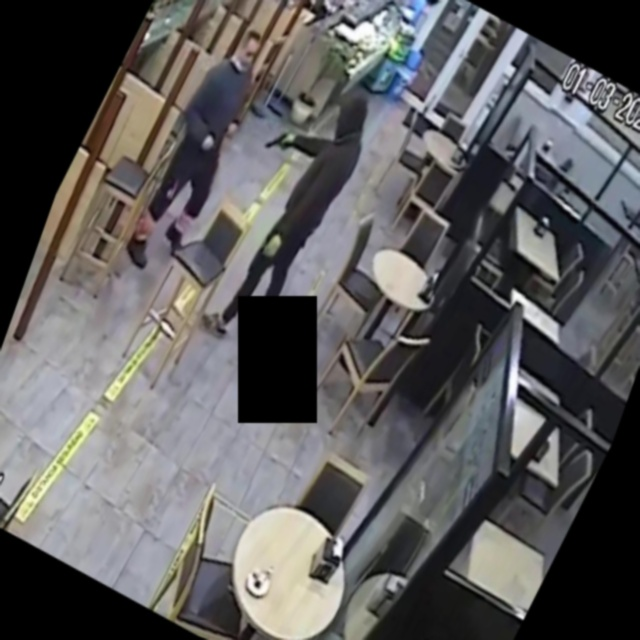gun: (247, 112, 313, 180)
